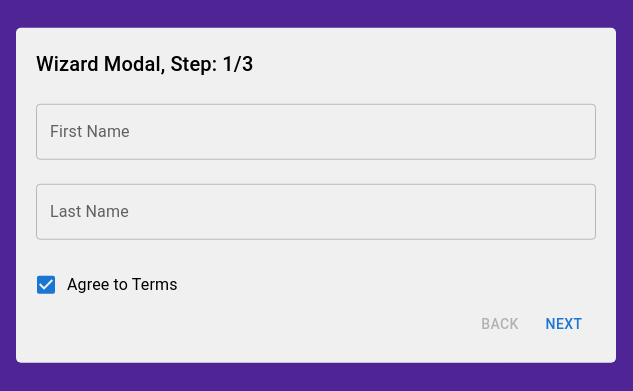
Test case: <App /> › displays an error if only one character in first name
The image size is (633, 391).
Type "a" into the field named "firstName" at (316, 132), box [36,104,596,160]
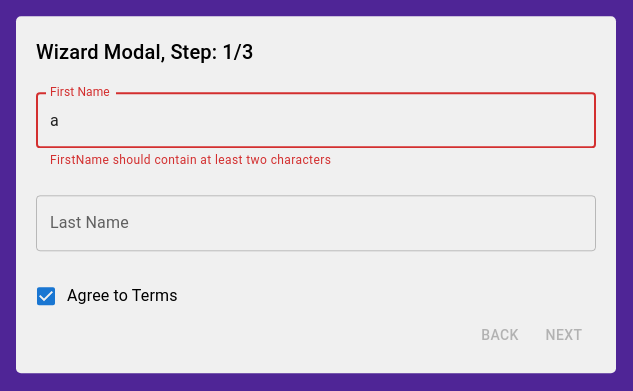
Now the text "FirstName should contain at least two characters" is shown, box [50,153,331,167]
